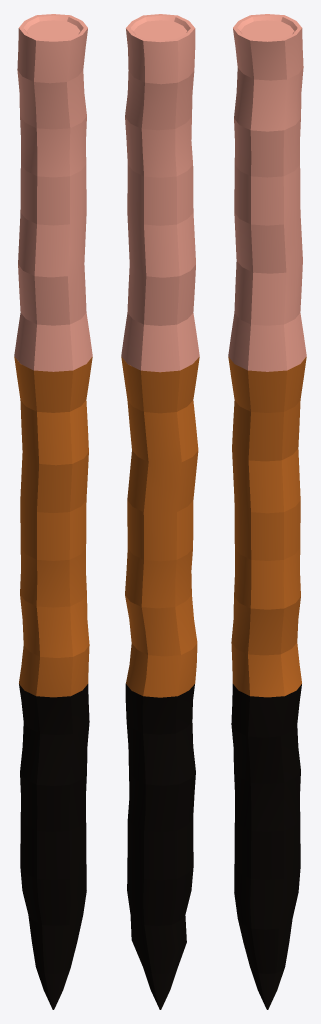
Rendered from Balise.FBX.
3 renders of one model, left to right at view 1: azimuth 90°, elevation 25°; view 2: azimuth 150°, elevation 25°; view 3: azimuth 270°, elevation 25°, orthographic.
Parts seen in each view (by area): view 1: Cylinder.008, Cylinder.007, Cylinder.006; view 2: Cylinder.008, Cylinder.007, Cylinder.006; view 3: Cylinder.008, Cylinder.007, Cylinder.006.
Boxes of the visible parts, bbox=[...] form: Cylinder.008: bbox=[14, 14, 92, 371]; Cylinder.007: bbox=[14, 357, 92, 697]; Cylinder.006: bbox=[19, 684, 89, 1009]; Cylinder.008: bbox=[121, 14, 199, 372]; Cylinder.007: bbox=[121, 357, 199, 697]; Cylinder.006: bbox=[125, 683, 195, 1009]; Cylinder.008: bbox=[228, 14, 306, 371]; Cylinder.007: bbox=[228, 357, 306, 697]; Cylinder.006: bbox=[231, 684, 301, 1009].
Size of the model in its own units: 1172 by 17023 by 1235.
